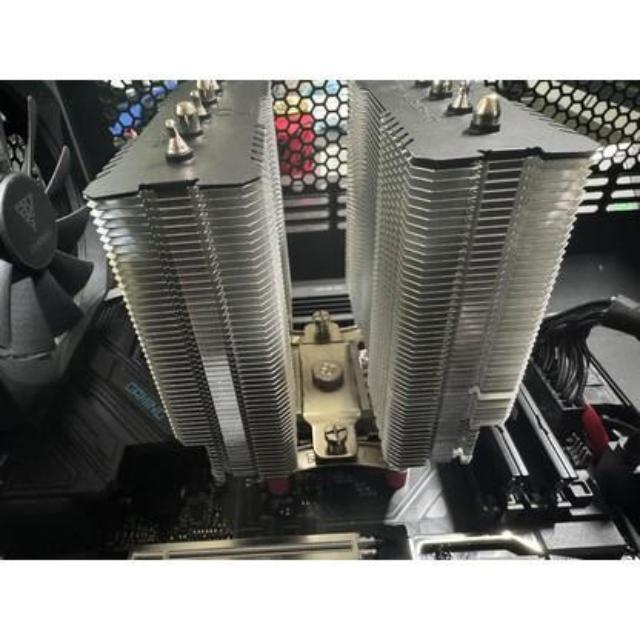CPU_Fan: (91, 72, 598, 560)
